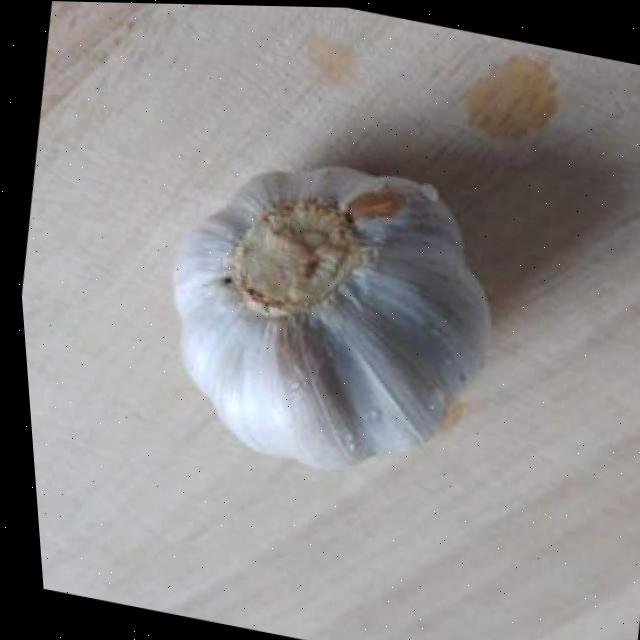Wet: (126, 125, 526, 498)
